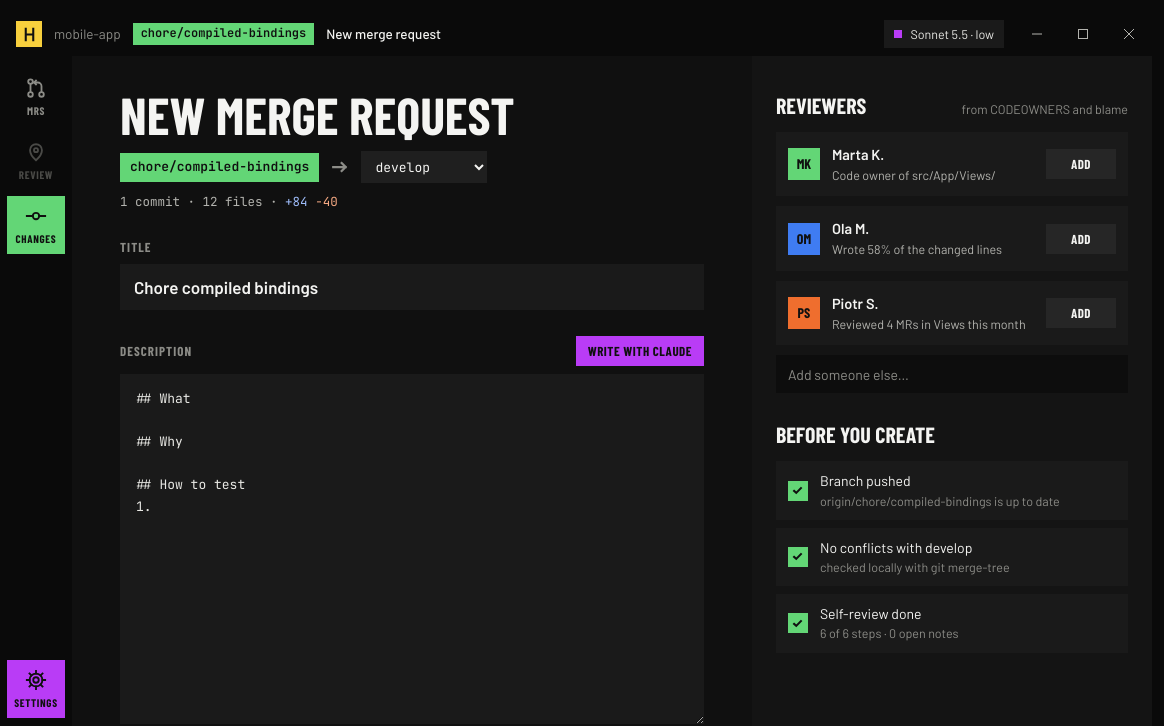
Test: S-11 title and description (F-27.2) › F-27.2 the label says "1 commit" in the singular
The width and height of the screenshot is (1164, 726).
Expected: the field labelled "Title" is not empty, 120,264 -> 704,310
Click the button "Write with Claude" at (640, 351), box 576,336 -> 704,366
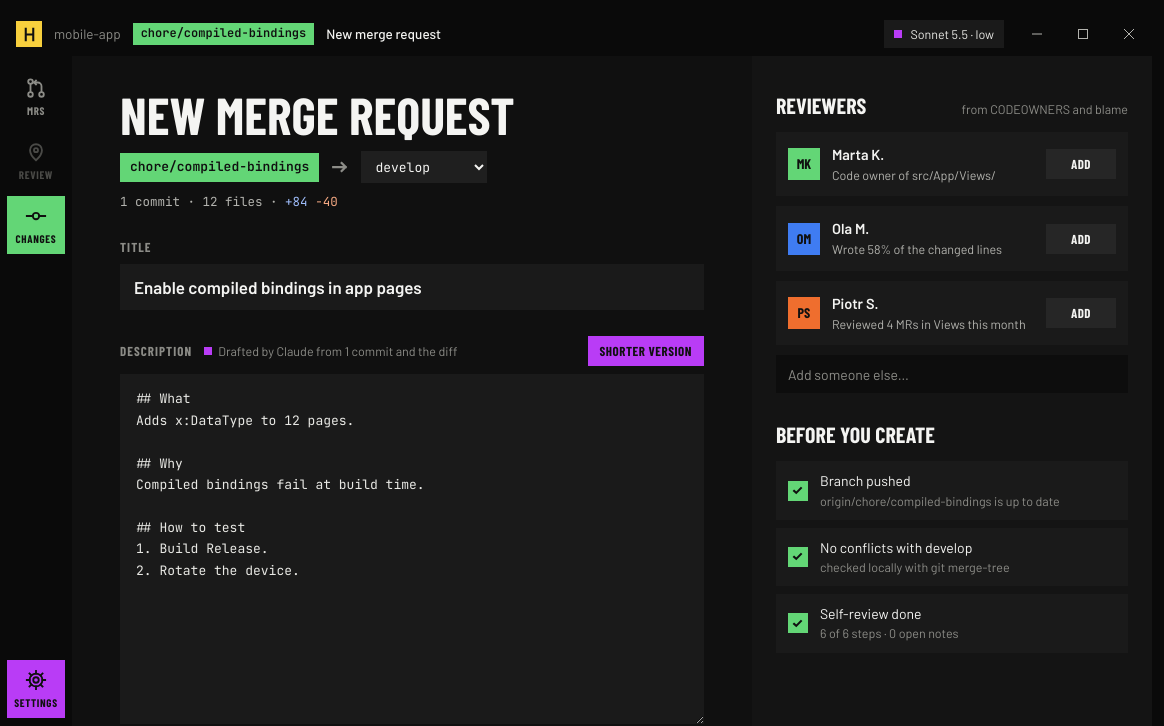
Now the text "Drafted by Claude from 1 commit and the diff" is shown, box 204,342 -> 457,360
